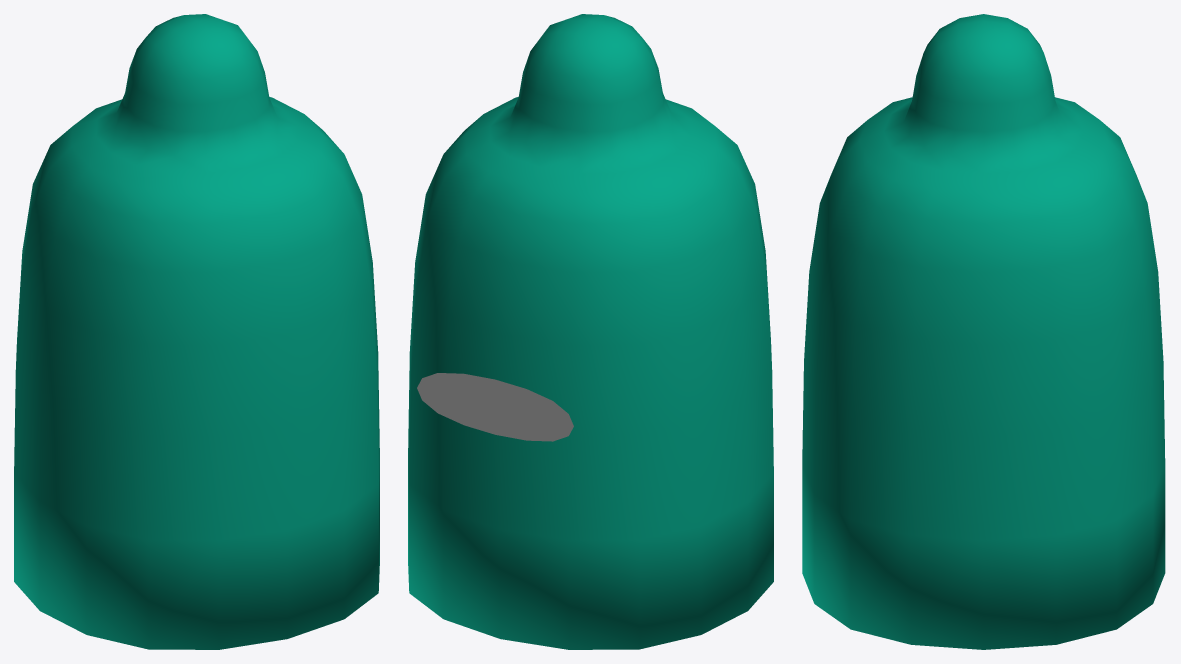
File: pressure-protection.obj
3 views of the same model, side by side, from view 1: azimuth 30°, elevation 25°; view 2: azimuth 150°, elevation 25°; view 3: azimuth 270°, elevation 25° (orthographic).
Visible parts, largest first — view 1: PressureProtection_Cube.1481; view 2: PressureProtection_Cube.1481; view 3: PressureProtection_Cube.1481.
Boxes of the visible parts, left/top/right/bottom form: PressureProtection_Cube.1481: left=14, top=14, right=379, bottom=649; PressureProtection_Cube.1481: left=408, top=14, right=773, bottom=649; PressureProtection_Cube.1481: left=802, top=14, right=1165, bottom=649.
Bounding box in the file's own units: 1.5 × 2.52 × 1.51.
